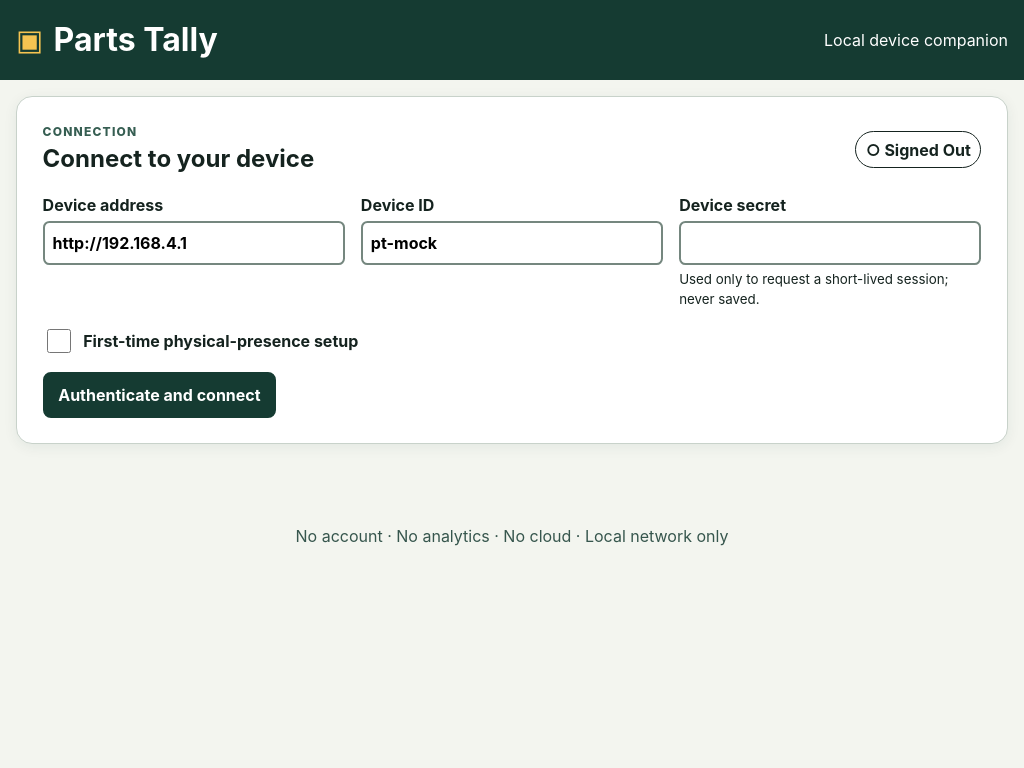
Test: app workflows › uses an explicit non-first active profile for threshold and calibration
The width and height of the screenshot is (1024, 768).
Type "device-secret-123456" into the password field labelled "Device secret" at (830, 243), box [679,221,981,265]
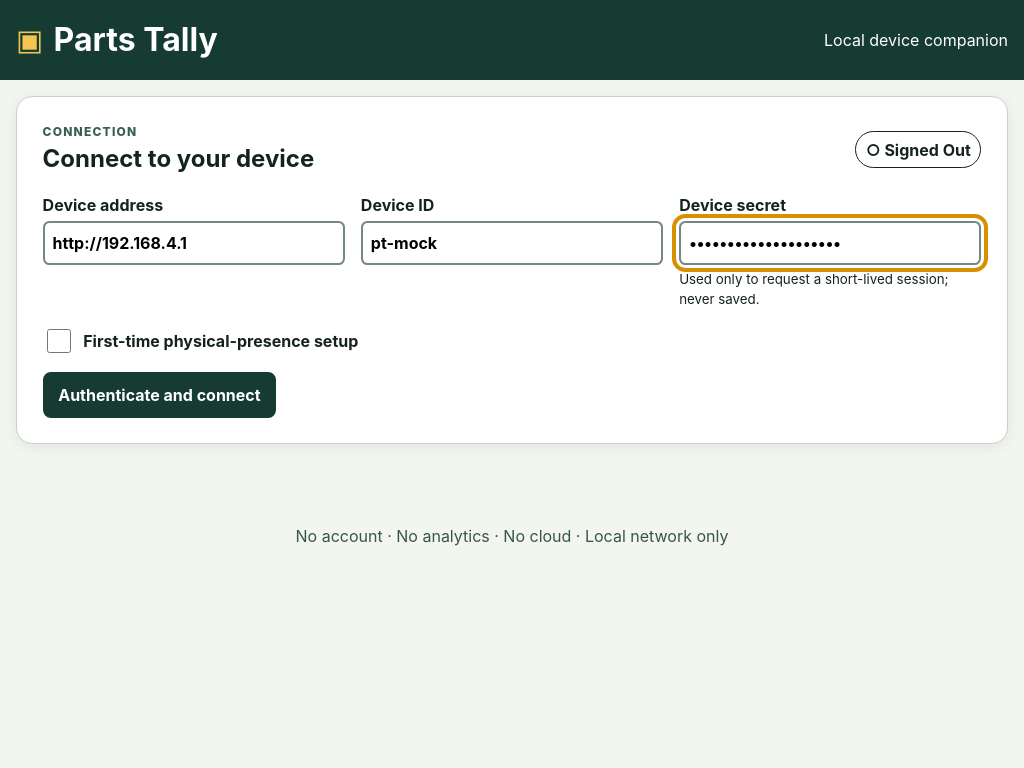
Click the button "Authenticate and connect" at (159, 395), box [43,372,276,418]
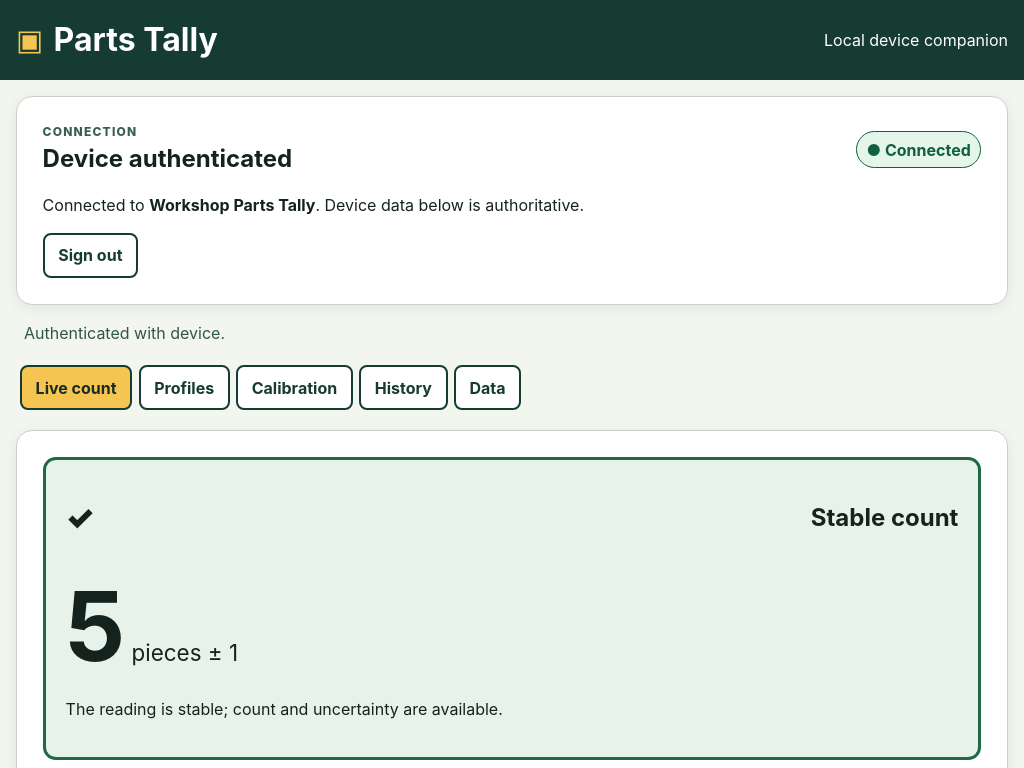
Expected: the text "Authenticated with device." is shown, [24,323,225,343]
Click the button "Calibration" at (294, 388), box [236,365,353,410]
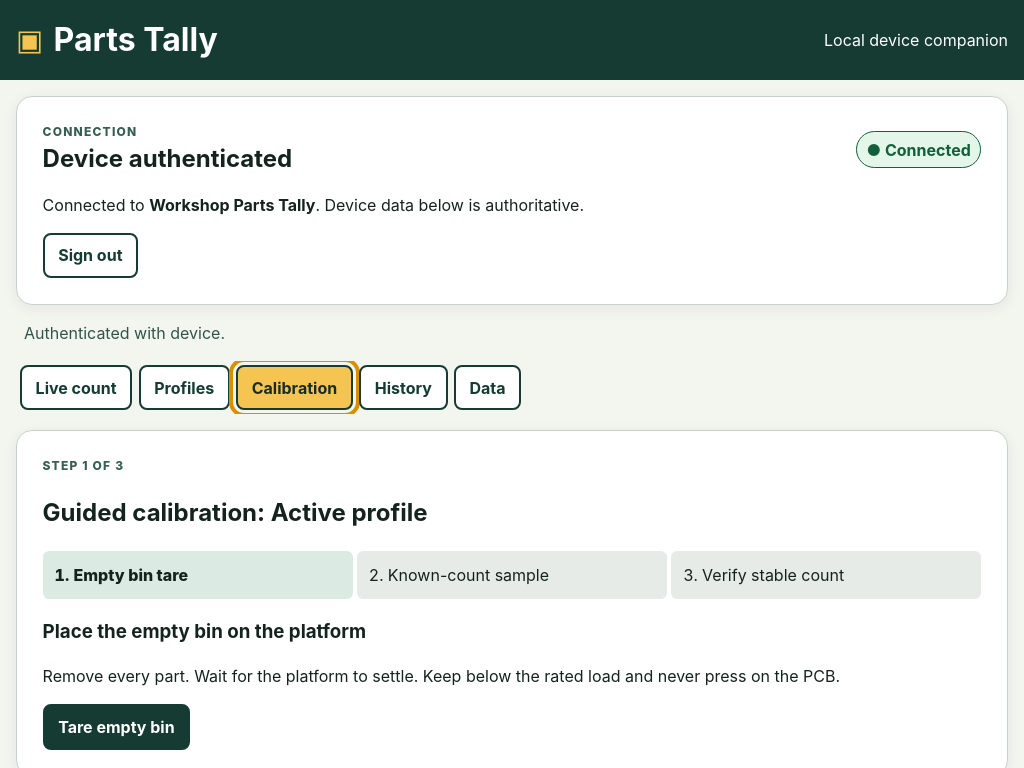
Expected: the heading "Guided calibration: Active profile" is shown, [43,498,428,527]
